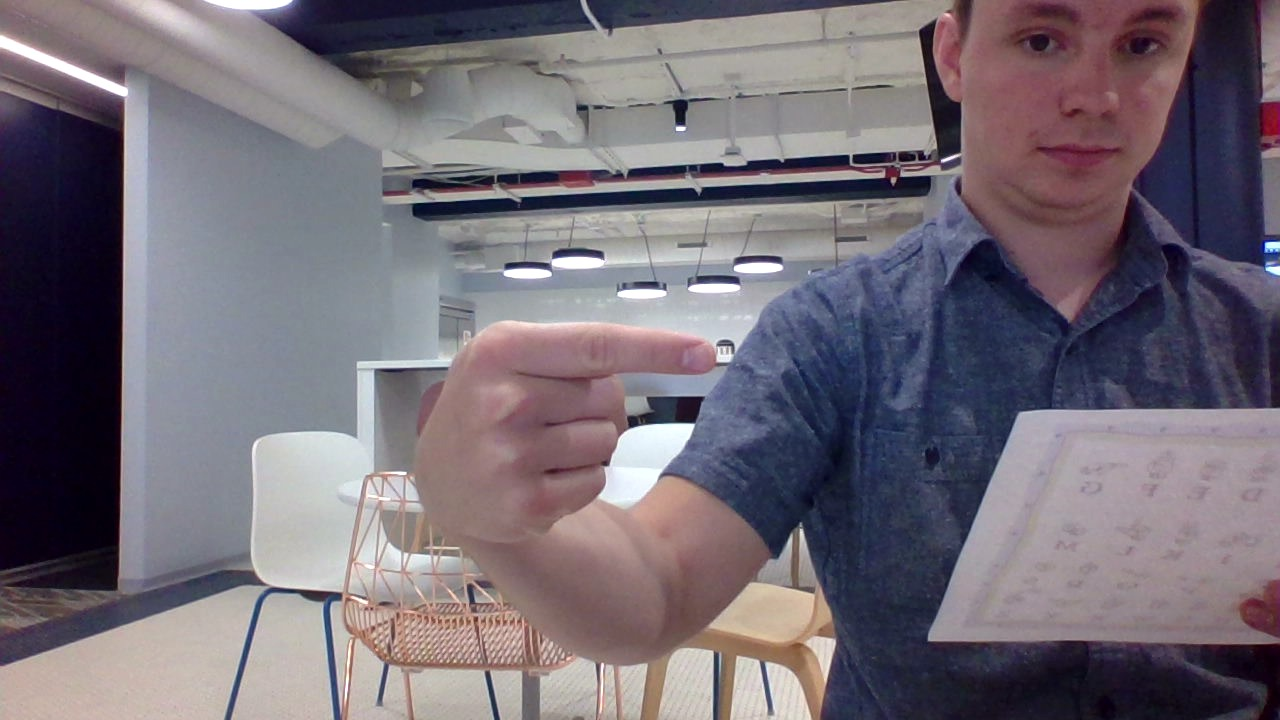g: (387, 304, 737, 574)
